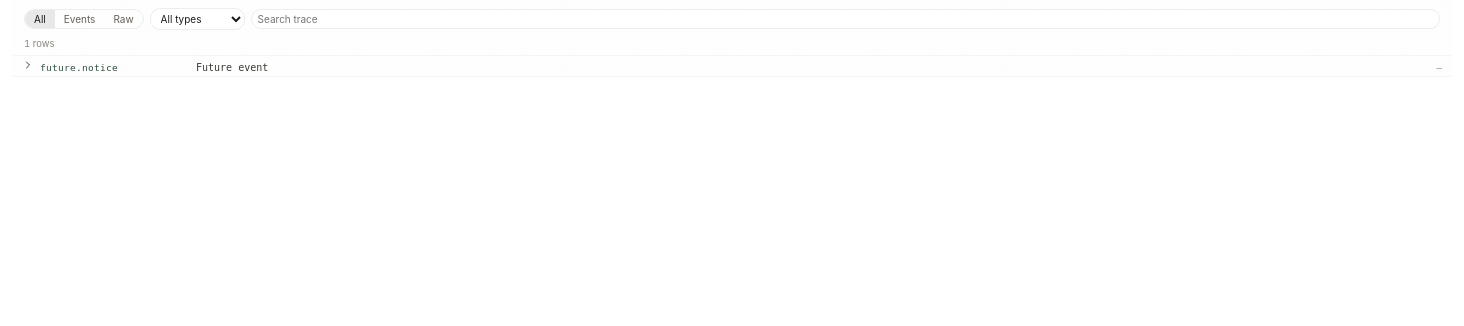
Test: DebugTraceTab › shows canonical diagnostics first and preserves an expandable raw event
The width and height of the screenshot is (1464, 326).
Click the button "future.notice Future event —".
click(79, 68)  # box [12,56,1452,76]
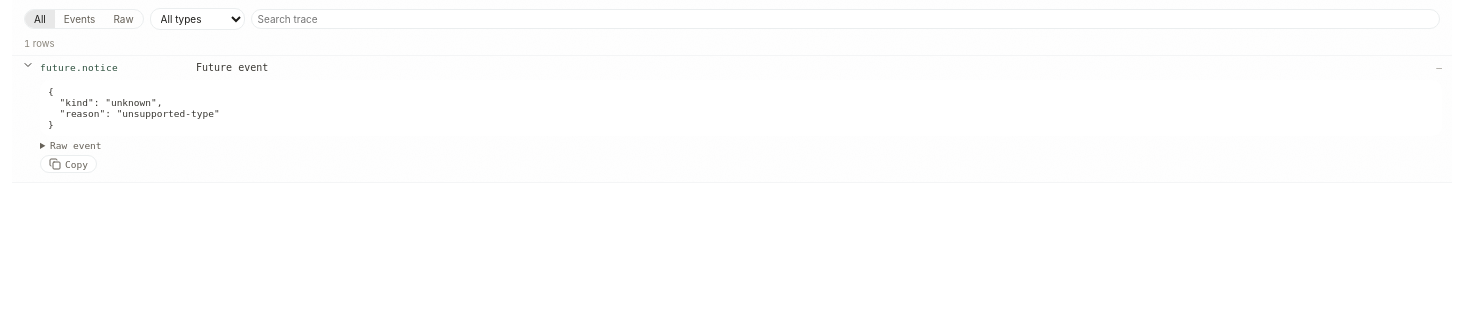
Expected: the text "{ \"kind\": \"unknown\", \"reason\": \"unsupported-type\" }" is shown, [40,80,1442,136]
Expected: the heading "Raw event" is shown
Click the heading "Raw event".
click(76, 146)  # box [50,140,102,151]
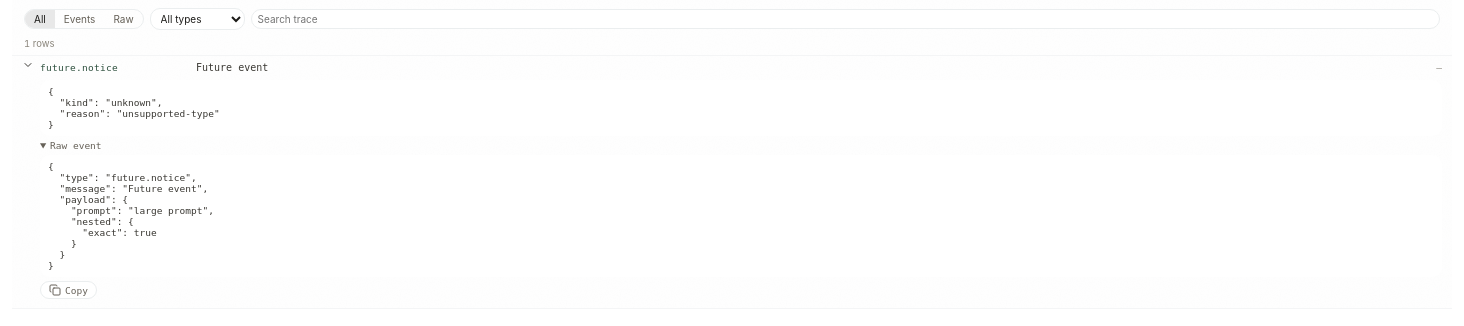
Expected: the text "\"prompt\": \"large prompt\"" is shown, [48,161,214,271]
